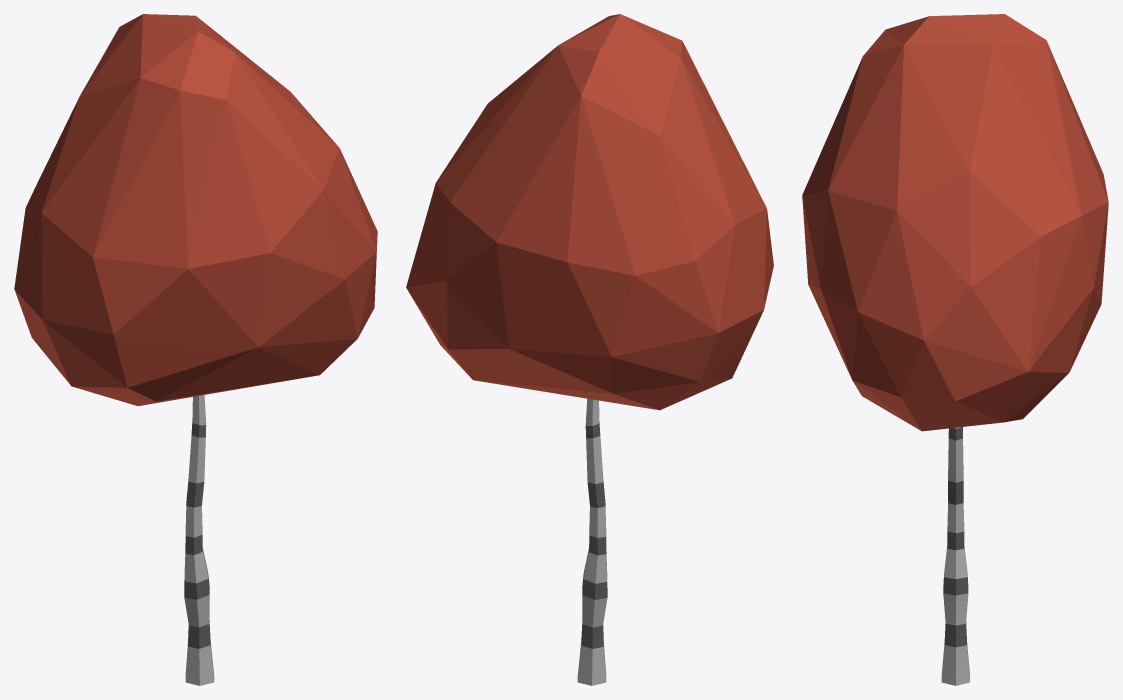
File: birch_1.fbx
3 renders of one model, left to right at view 1: azimuth 30°, elevation 25°; view 2: azimuth 150°, elevation 25°; view 3: azimuth 270°, elevation 25°, orthographic.
Visible parts, largest first — view 1: birch_1; view 2: birch_1; view 3: birch_1.
Part boxes in pixels (<box>): birch_1: <box>14,14,377,685</box>; birch_1: <box>406,14,773,685</box>; birch_1: <box>802,14,1108,685</box>.
Bounding box in the file's own units: 367 × 709 × 300.
